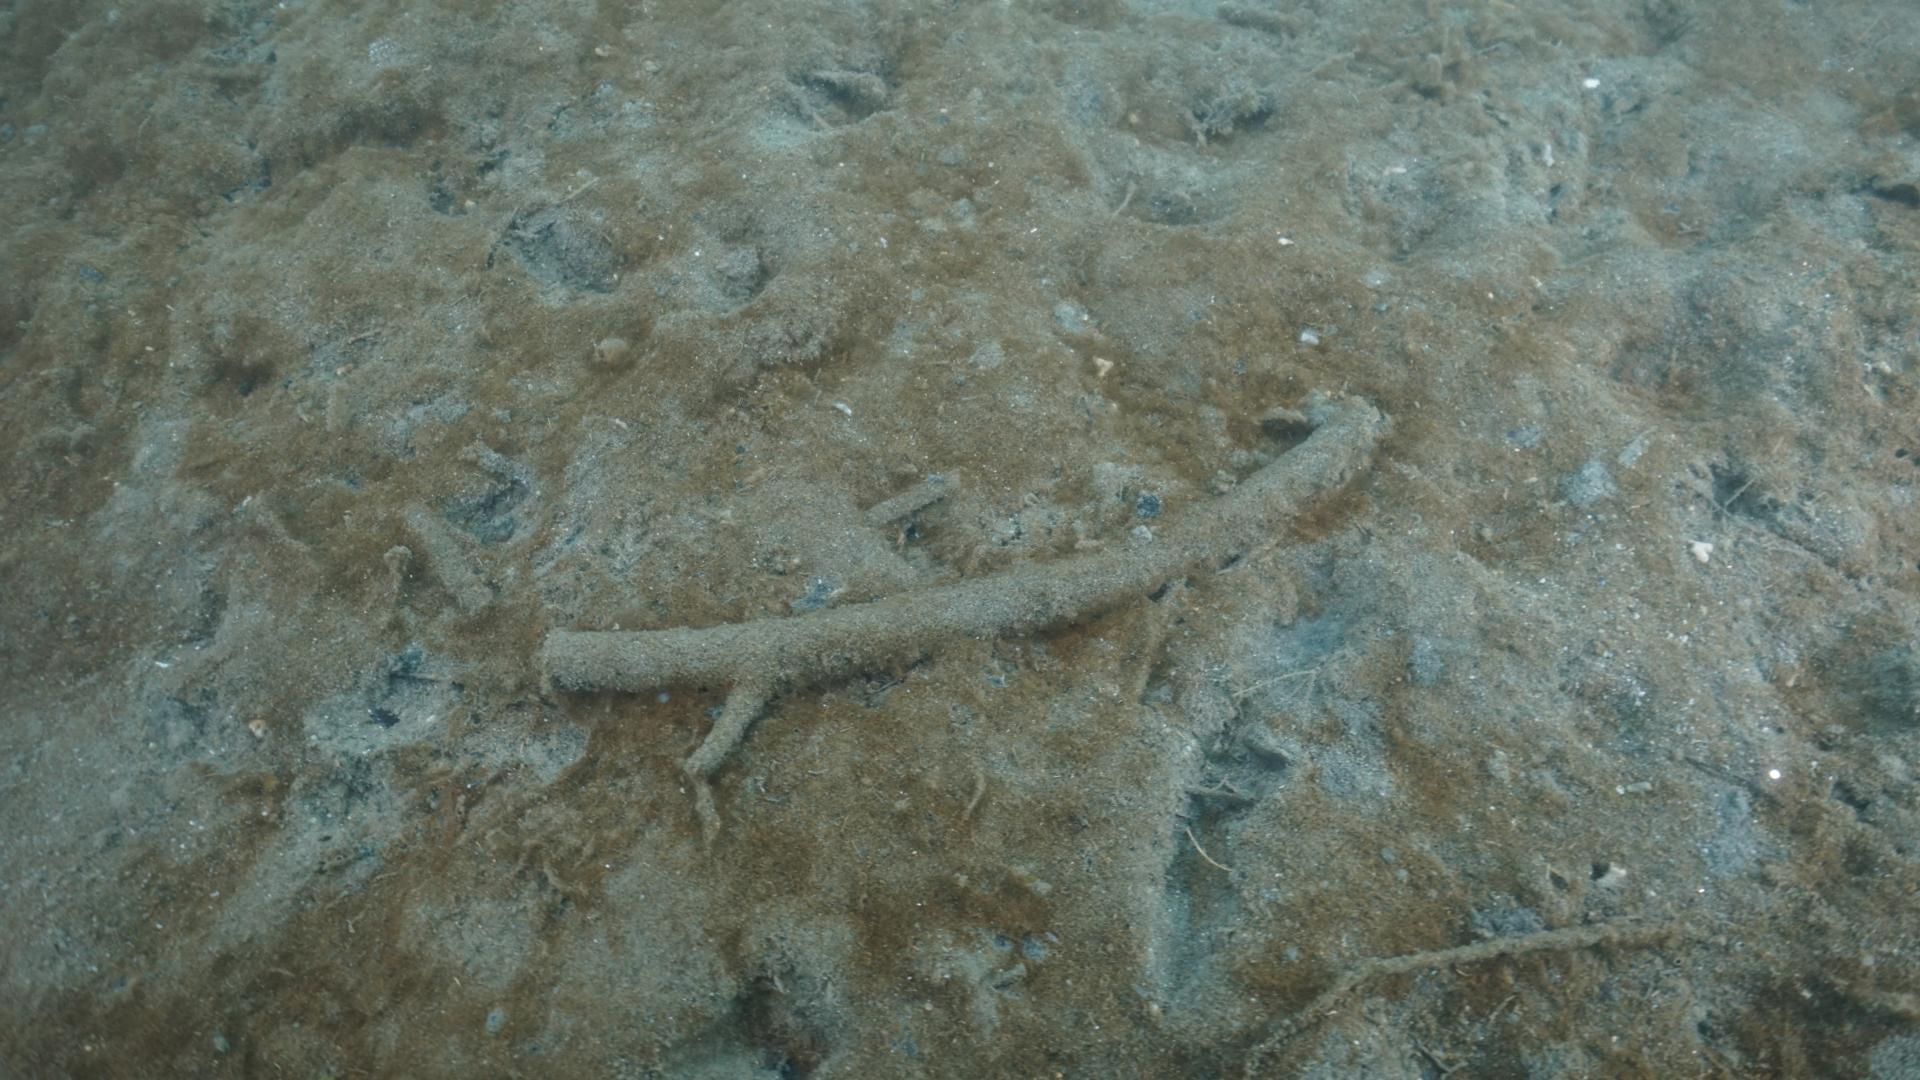wood: (531, 382, 1394, 779)
